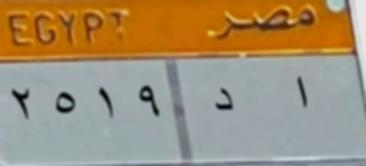1: (96, 82, 118, 123)
2: (4, 78, 36, 126)
5: (50, 85, 78, 122)
9: (130, 84, 163, 124)
alif: (279, 66, 314, 120)
daal: (205, 82, 237, 118)
